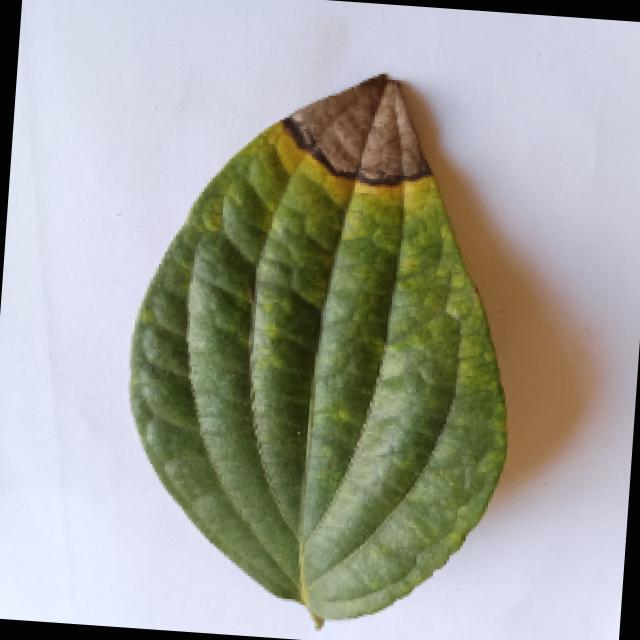footrot: (99, 56, 556, 634)
